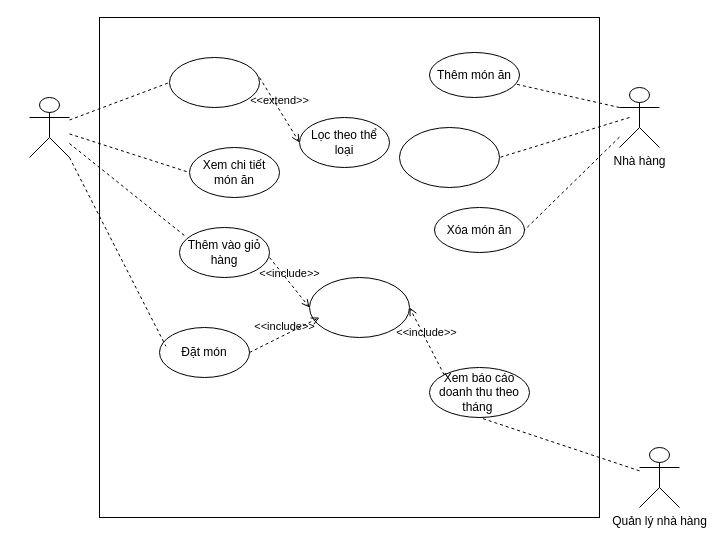
Image size: 724x546. Some labels were removed from this diagram. Here are the shapes that lost their labels. From the top down, the centre of each, then its label:
the point at 214,82: Tìm món ăn
the point at 49,127: Khách hàng
the point at 449,157: Cập nhật số lượng tồn kho món ăn
the point at 359,307: Đăng nhập
